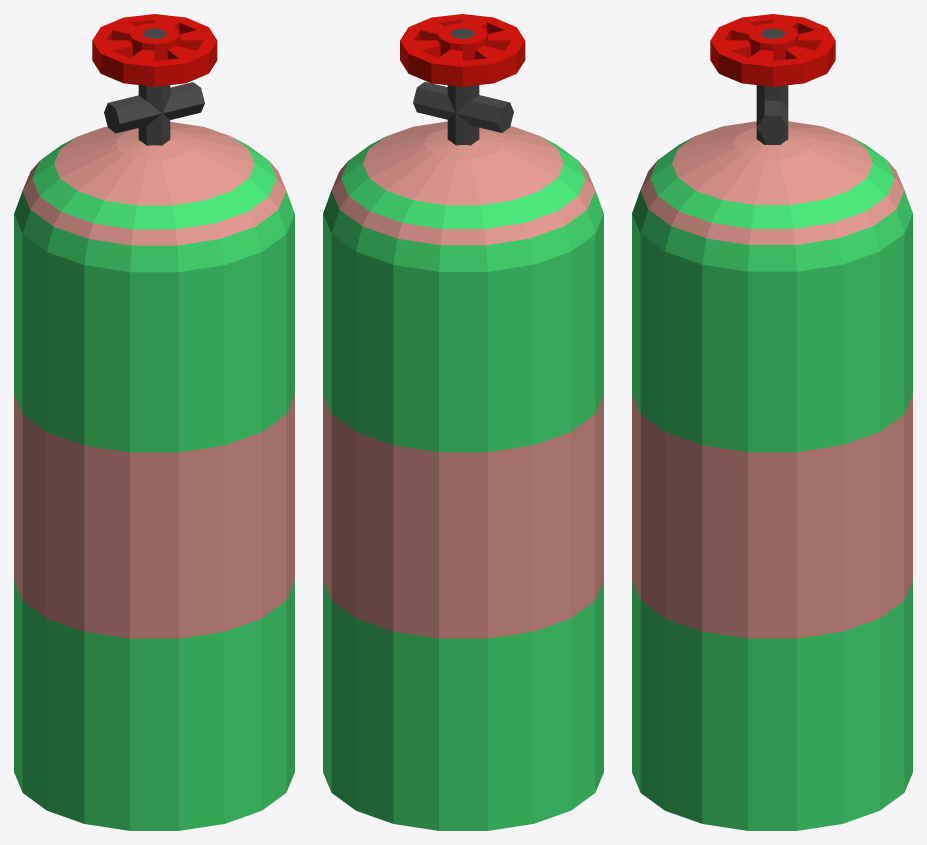
File: Nitrogenio.fbx
3 renders of one model, left to right at view 1: azimuth 30°, elevation 25°; view 2: azimuth 150°, elevation 25°; view 3: azimuth 270°, elevation 25°, orthographic.
Parts seen in each view (by area): view 1: Cylinder; view 2: Cylinder; view 3: Cylinder.
Part boxes in pixels (box(x1,y1,x2,y2)): Cylinder: box(14, 14, 294, 830); Cylinder: box(323, 14, 603, 830); Cylinder: box(632, 14, 912, 830).
Size of the model in its own units: 75.4 by 222 by 76.56.
